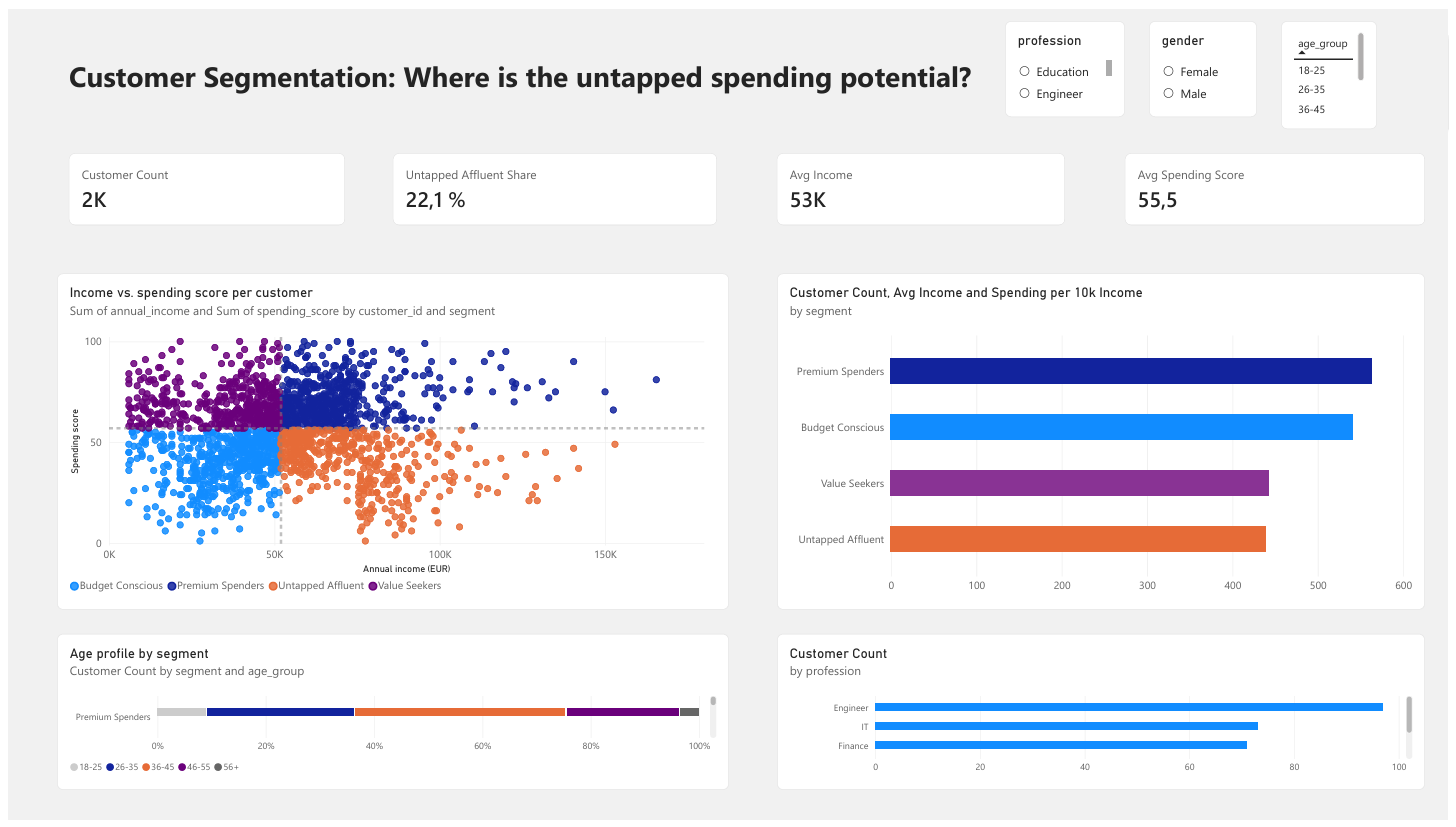

This screenshot's page, from the dashboard's own definition file:
{"tool":"powerbi","page":{"name":"Page 1","canvas":[1920,1080],"ordinal":0},"visuals":[{"type":"cardVisual","fields":{"Data":["Customers.Customer Count"]},"box":[80,192,368,96],"z":0},{"type":"cardVisual","fields":{"Data":["Customers.Untapped Affluent Share"]},"box":[512,192,432,96],"z":1000},{"type":"cardVisual","fields":{"Data":["Customers.Avg Income"]},"box":[1024,192,384,96],"z":2000},{"type":"cardVisual","fields":{"Data":["Customers.Avg Spending Score"]},"box":[1488,192,400,96],"z":3000},{"type":"scatterChart","title":"Income vs. spending score per customer","fields":{"Category":["Customers.customer_id"],"Series":["Customers.segment"],"X":["Sum(Customers.annual_income)"],"Y":["Sum(Customers.spending_score)"]},"box":[64,352,896,448],"z":4000},{"type":"clusteredBarChart","fields":{"Category":["Customers.segment"],"Y":["Customers.Customer Count"]},"box":[1024,352,864,448],"z":5000},{"type":"hundredPercentStackedBarChart","title":"Age profile by segment","fields":{"Category":["Customers.segment"],"Series":["Customers.age_group"],"Y":["Customers.Customer Count"]},"box":[64,832,896,208],"z":6000},{"type":"clusteredBarChart","fields":{"Category":["Customers.profession"],"Y":["Customers.Customer Count"]},"box":[1024,832,864,208],"z":7000},{"type":"listSlicer","fields":{"Values":["Customers.gender"]},"box":[1520,16,144,128],"z":8000},{"type":"listSlicer","fields":{"Values":["Customers.profession"]},"box":[1328,16,160,128],"z":9000},{"type":"tableEx","fields":{"Values":["Customers.age_group"]},"box":[1696,16,128,144],"z":10000},{"type":"textbox","box":[80,64,1232,64],"z":10001}]}

Visuals, with their boxes in screenshot pixels (x1, y1, x2, y2), scaled from the page's 1920x1080 canvas onto the 1456x827 screenshot:
cardVisual - Customers.Customer Count: <bbox>61, 147, 340, 221</bbox>
cardVisual - Customers.Untapped Affluent Share: <bbox>388, 147, 716, 221</bbox>
cardVisual - Customers.Avg Income: <bbox>777, 147, 1068, 221</bbox>
cardVisual - Customers.Avg Spending Score: <bbox>1128, 147, 1432, 221</bbox>
"Income vs. spending score per customer" scatterChart: <bbox>49, 270, 728, 613</bbox>
clusteredBarChart - Customers.segment x Customers.Customer Count: <bbox>777, 270, 1432, 613</bbox>
"Age profile by segment" hundredPercentStackedBarChart: <bbox>49, 637, 728, 796</bbox>
clusteredBarChart - Customers.profession x Customers.Customer Count: <bbox>777, 637, 1432, 796</bbox>
listSlicer - Customers.gender: <bbox>1153, 12, 1262, 110</bbox>
listSlicer - Customers.profession: <bbox>1007, 12, 1128, 110</bbox>
tableEx - Customers.age_group: <bbox>1286, 12, 1383, 123</bbox>
textbox: <bbox>61, 49, 995, 98</bbox>
